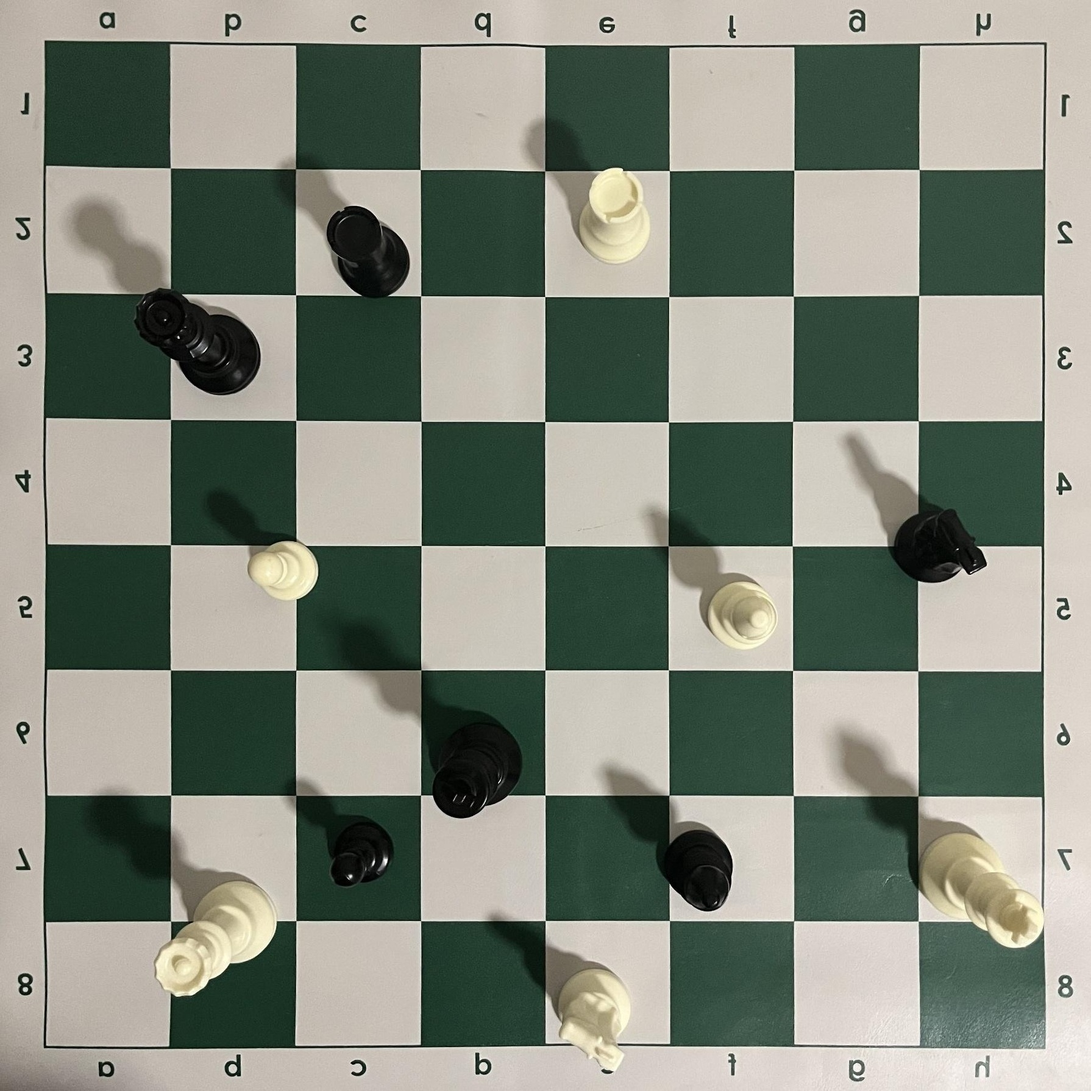black_bishop: (661, 828, 734, 912)
black_king: (432, 722, 524, 819)
black_knight: (890, 506, 987, 584)
black_pawn: (329, 822, 396, 889)
black_queen: (133, 289, 262, 396)
black_rook: (326, 205, 411, 299)
white_bishop: (707, 580, 779, 651)
white_king: (919, 831, 1046, 950)
white_knight: (556, 966, 633, 1074)
white_pawn: (247, 540, 320, 602)
white_queen: (154, 880, 280, 998)
white_rook: (578, 168, 651, 265)
